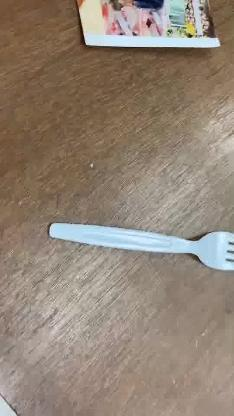Others: (48, 221, 234, 270)
